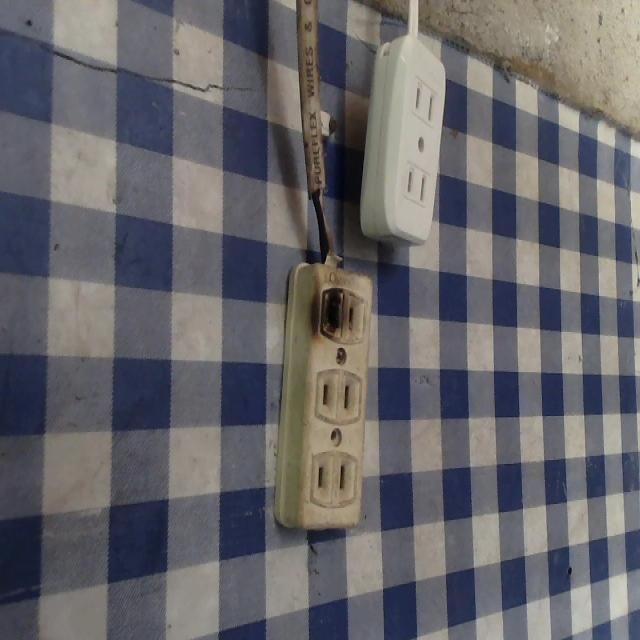-: (314, 285, 349, 343)
